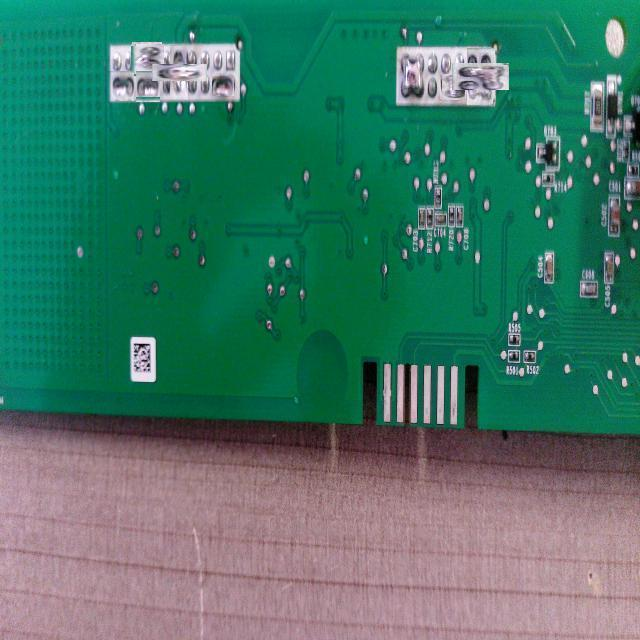Short_circuit: (460, 55, 502, 98), (161, 54, 198, 91), (400, 51, 426, 100), (131, 43, 163, 75), (135, 70, 160, 102), (108, 71, 134, 101), (440, 74, 466, 100), (212, 76, 234, 96)
